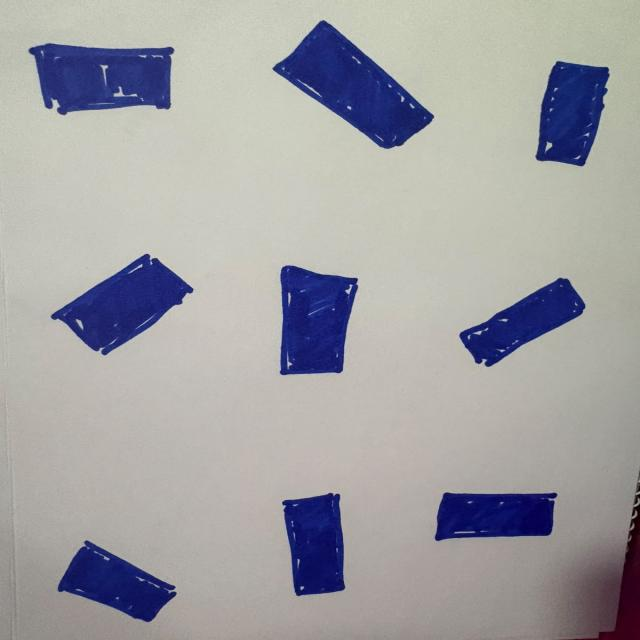Rectangle: (273, 21, 433, 148), (52, 254, 193, 354), (461, 278, 585, 366), (29, 44, 173, 114), (58, 541, 175, 621), (281, 266, 357, 374), (537, 61, 609, 165), (283, 493, 345, 596), (435, 493, 556, 540)
